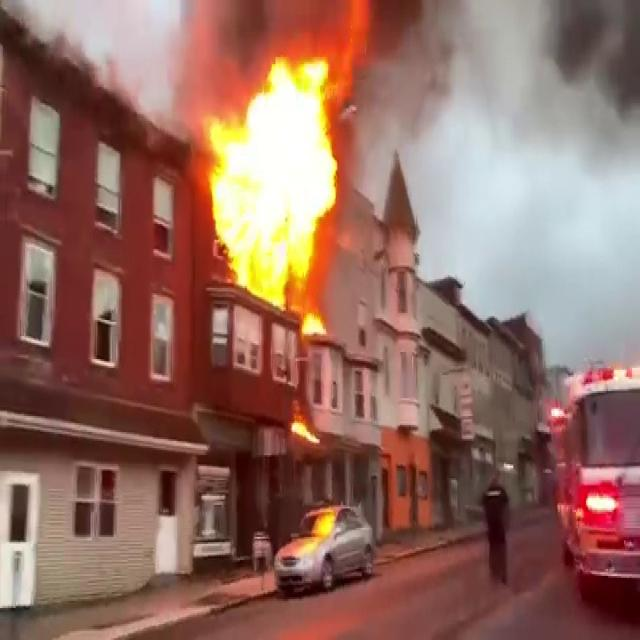Fire: (196, 39, 352, 322), (286, 406, 321, 449)
